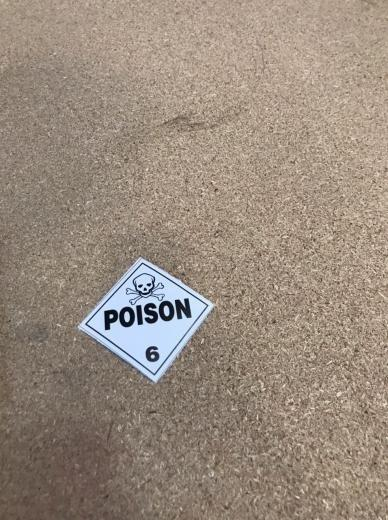poison: (77, 255, 214, 384)
